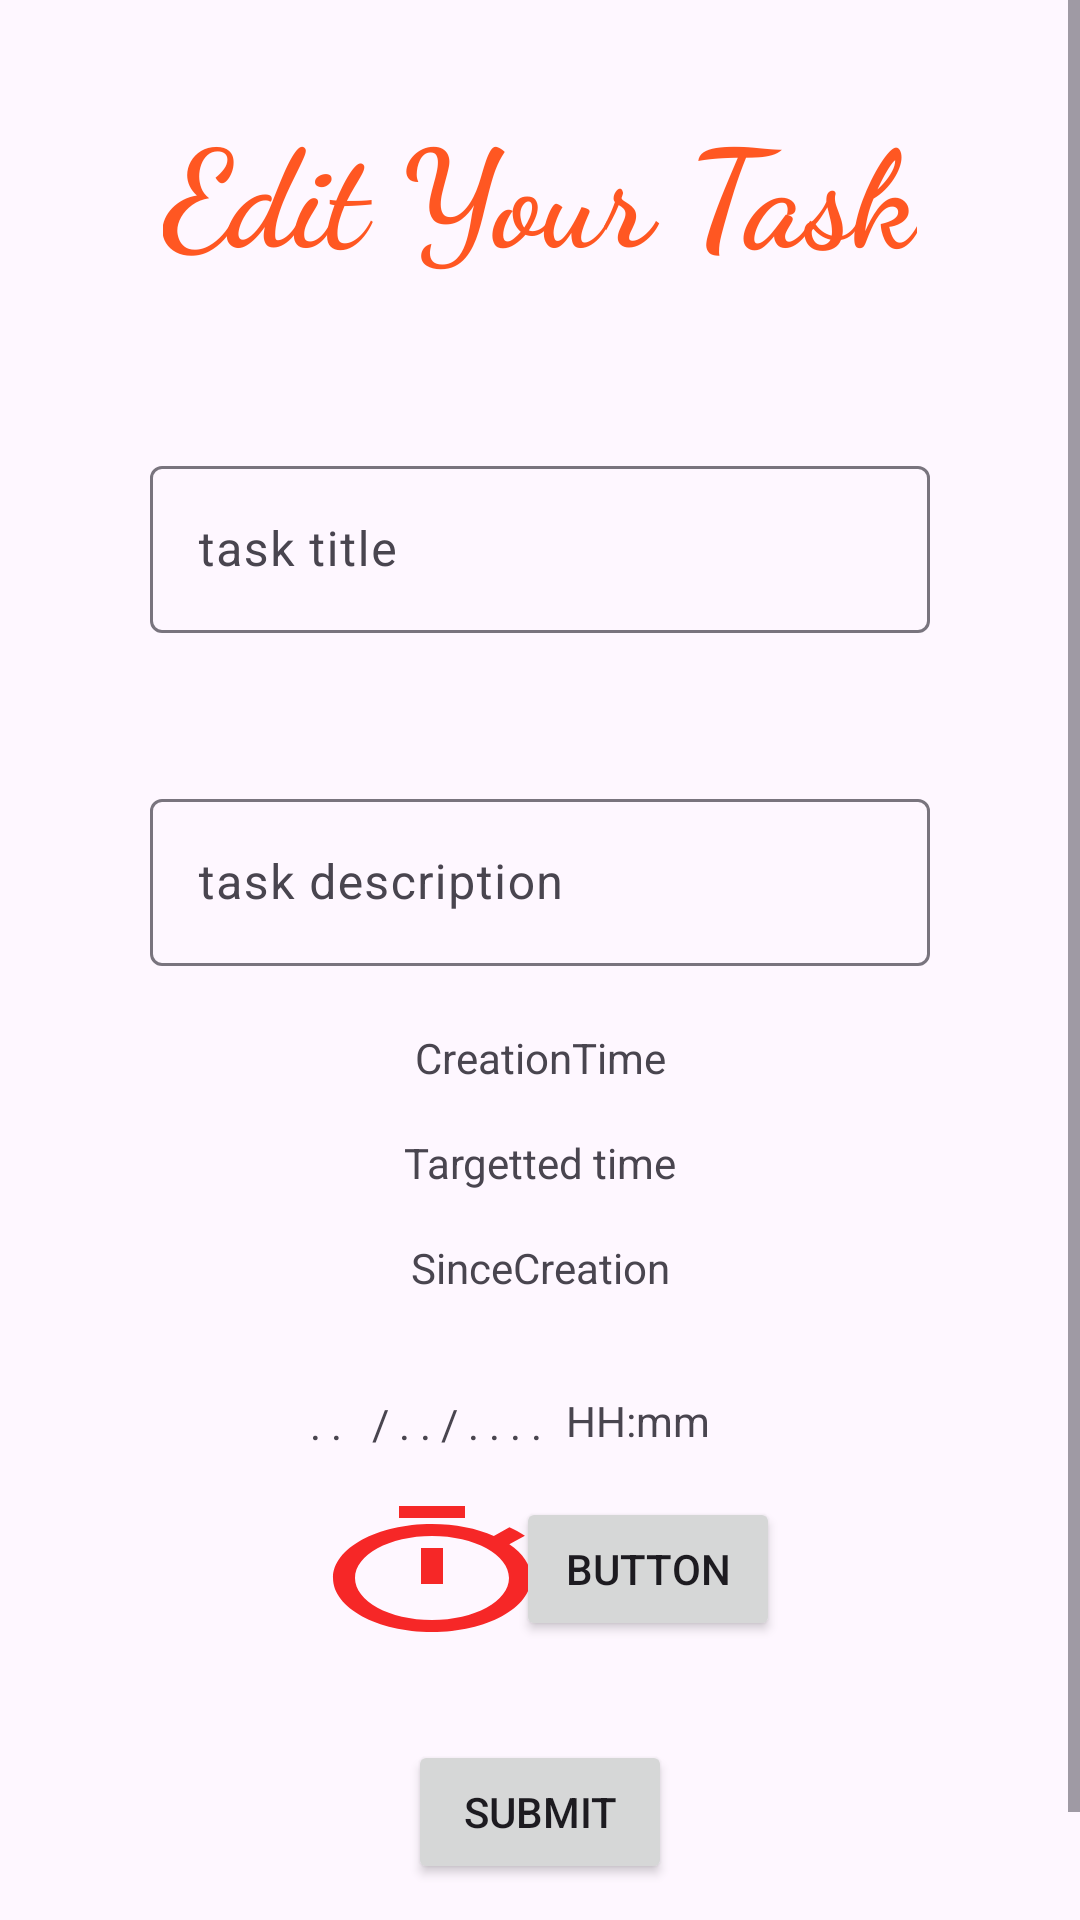

Icon bounding boxes for this 1080×1920 phone screenshot, format [x1=x1, y1=y1, x2=x2, y2=y2]:
timer: [x1=333, y1=1506, x2=564, y2=1632]
